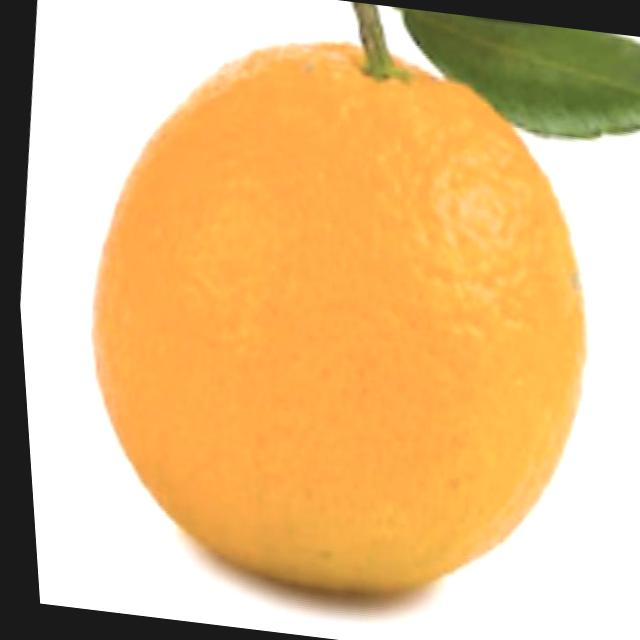Orange: (39, 11, 631, 623)
